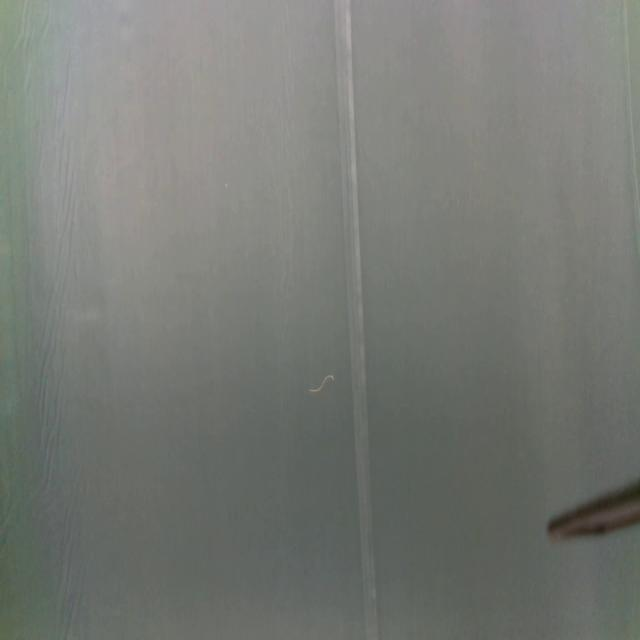crease: (336, 3, 379, 640), (622, 0, 640, 209)
